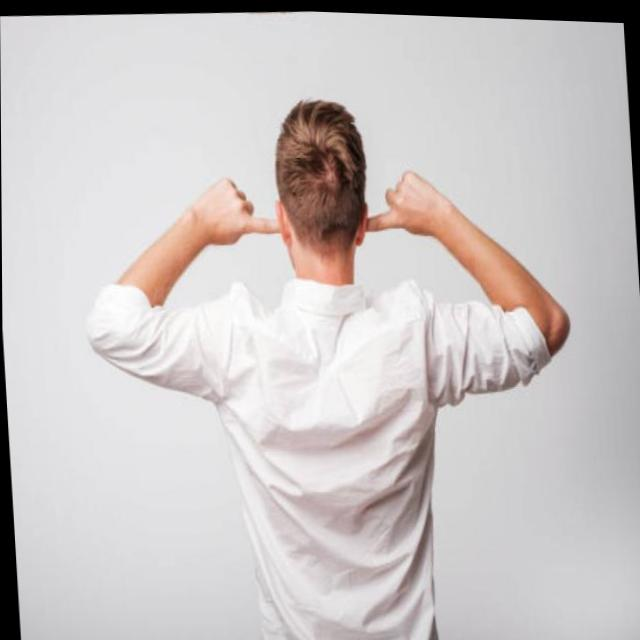no helmet: (259, 78, 394, 302)
